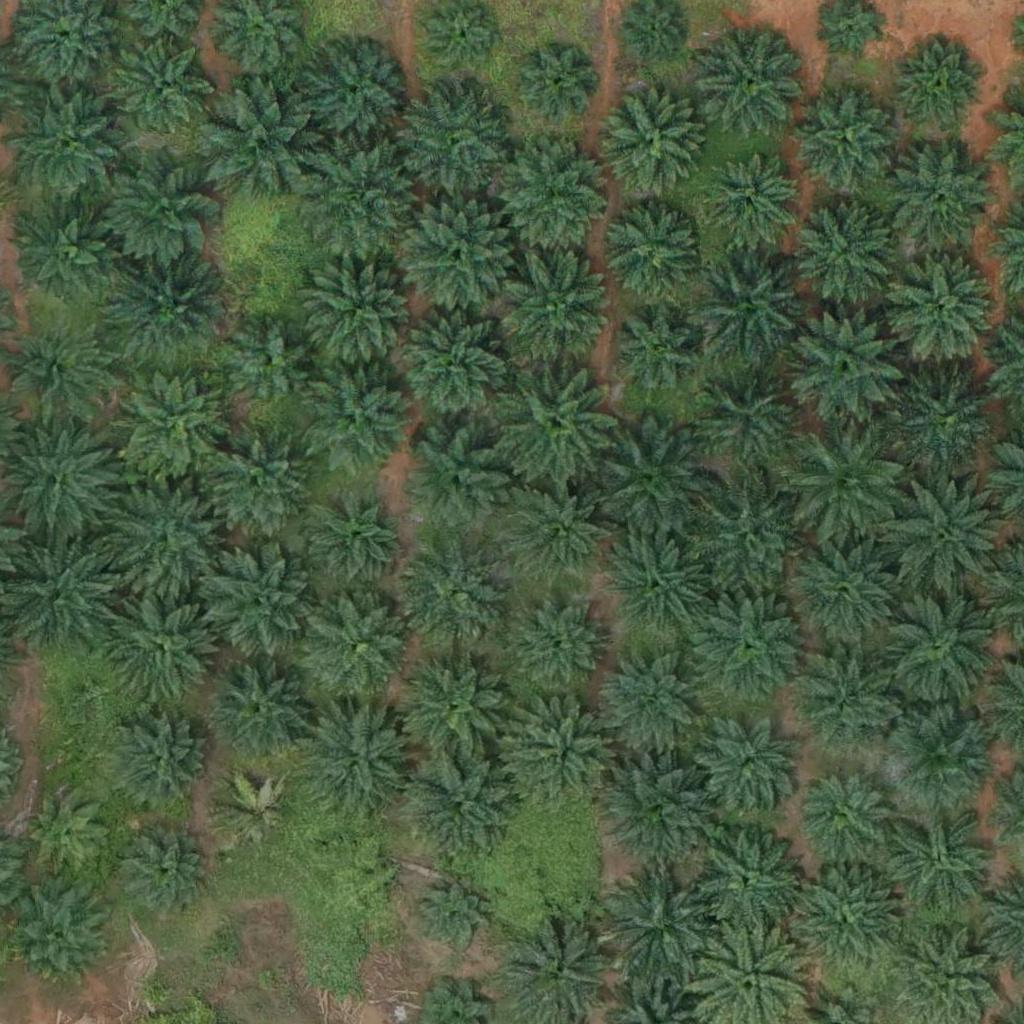Kelapa_Sawit: (4, 77, 129, 203), (99, 147, 224, 273), (196, 80, 321, 206), (299, 139, 424, 265), (393, 304, 518, 430), (494, 246, 619, 372), (493, 361, 618, 487), (589, 417, 714, 543), (685, 237, 810, 363), (684, 356, 809, 482), (684, 472, 809, 598), (785, 306, 910, 432), (783, 424, 908, 550), (880, 472, 1005, 598), (876, 586, 1001, 712), (783, 526, 908, 652), (686, 583, 811, 709), (599, 865, 724, 991), (881, 249, 1006, 374), (305, 257, 418, 371), (604, 747, 717, 861), (397, 542, 510, 656), (3, 427, 116, 540), (303, 362, 416, 475), (296, 480, 409, 593), (397, 428, 510, 541), (497, 139, 610, 252), (883, 808, 996, 921), (507, 702, 620, 815), (397, 651, 510, 764), (401, 752, 514, 865), (105, 587, 218, 700), (101, 700, 214, 813), (400, 195, 512, 309), (505, 474, 617, 588), (789, 860, 901, 974), (691, 714, 803, 828), (692, 821, 804, 935), (13, 199, 125, 312), (112, 252, 224, 365), (117, 371, 229, 484), (110, 481, 222, 594), (198, 426, 310, 539), (395, 80, 507, 193), (302, 591, 414, 704), (301, 705, 413, 818), (202, 542, 314, 655), (602, 89, 702, 190), (601, 204, 701, 305), (704, 30, 804, 131), (698, 151, 798, 252), (795, 87, 895, 188), (795, 199, 895, 300), (890, 144, 990, 245), (898, 371, 998, 472), (892, 707, 992, 808), (801, 650, 901, 751), (112, 820, 212, 921), (17, 780, 117, 881), (113, 37, 213, 137), (303, 43, 403, 143), (608, 300, 708, 400), (607, 531, 707, 631), (598, 652, 698, 752), (505, 598, 605, 698), (8, 879, 108, 979), (210, 769, 298, 858), (227, 318, 315, 406), (217, 670, 305, 758), (901, 40, 988, 128), (802, 771, 889, 859), (424, 1, 499, 77), (521, 45, 596, 120), (417, 878, 492, 953)
